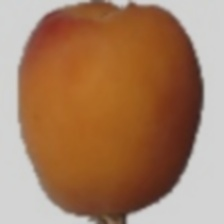apricot: (36, 0, 202, 201)
